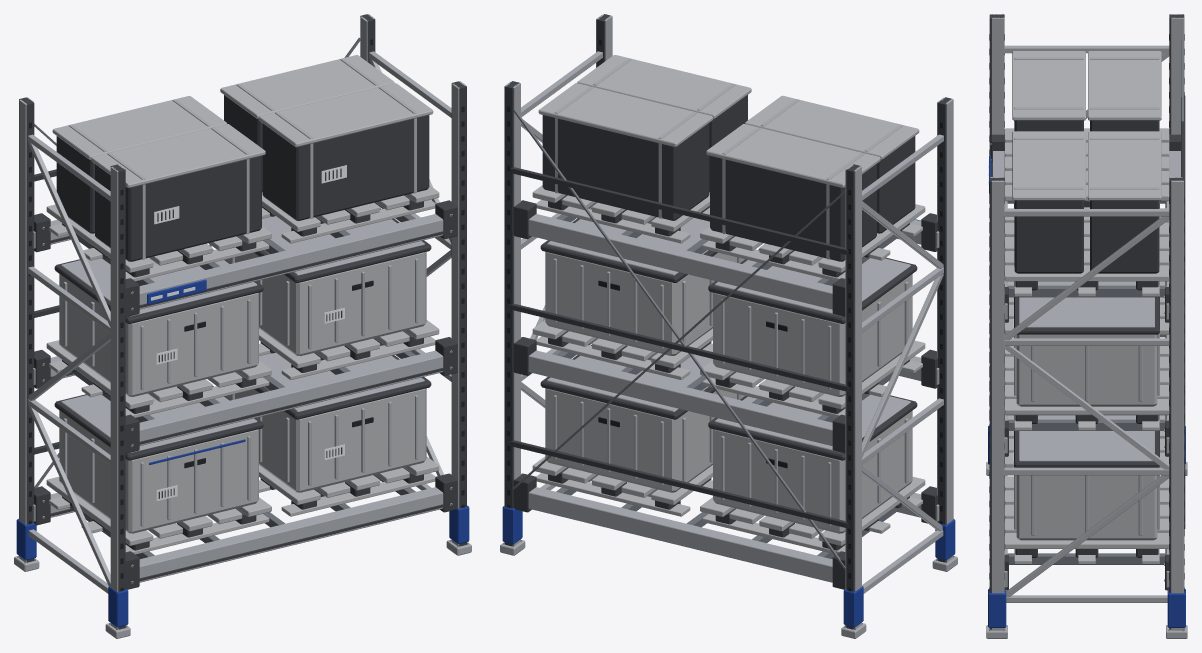
Rendered from asset.glb.
3 views of the same model, side by side, from view 1: azimuth 30°, elevation 25°; view 2: azimuth 150°, elevation 25°; view 3: azimuth 270°, elevation 25° (orthographic). The views are drawn at different scales.
Visible parts, largest first — view 1: pallet-rack_Pale composite, pallet-rack_Brushed steel, pallet-rack_Graphite powder coat, pallet-rack_Metallic blue, pallet-rack_Zinc fastener, pallet-rack_Black polymer, pallet-rack_White marking; view 2: pallet-rack_Pale composite, pallet-rack_Brushed steel, pallet-rack_Graphite powder coat, pallet-rack_Zinc fastener, pallet-rack_Metallic blue, pallet-rack_Black polymer; view 3: pallet-rack_Pale composite, pallet-rack_Brushed steel, pallet-rack_Graphite powder coat, pallet-rack_Zinc fastener, pallet-rack_Metallic blue, pallet-rack_Black polymer.
Boxes of the visible parts, x1,y1,x2,y2 form: pallet-rack_Pale composite: [46, 55, 439, 554]; pallet-rack_Brushed steel: [14, 14, 471, 638]; pallet-rack_Graphite powder coat: [19, 14, 466, 629]; pallet-rack_Metallic blue: [16, 279, 469, 627]; pallet-rack_Zinc fastener: [17, 37, 468, 629]; pallet-rack_Black polymer: [18, 39, 467, 626]; pallet-rack_White marking: [150, 165, 346, 500]; pallet-rack_Pale composite: [532, 55, 925, 553]; pallet-rack_Brushed steel: [500, 14, 957, 638]; pallet-rack_Graphite powder coat: [505, 14, 951, 629]; pallet-rack_Zinc fastener: [503, 109, 954, 629]; pallet-rack_Metallic blue: [502, 219, 955, 627]; pallet-rack_Black polymer: [507, 39, 953, 626]; pallet-rack_Pale composite: [1004, 51, 1169, 564]; pallet-rack_Brushed steel: [986, 14, 1187, 638]; pallet-rack_Graphite powder coat: [989, 14, 1185, 629]; pallet-rack_Zinc fastener: [989, 39, 1184, 630]; pallet-rack_Metallic blue: [988, 155, 1185, 627]; pallet-rack_Black polymer: [989, 34, 1184, 629].
Size of the model in its own units: 2.4 by 3 by 1.2.
